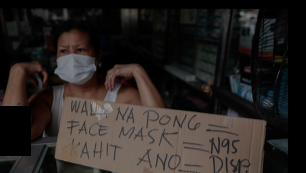with_mask: (54, 41, 98, 85)
